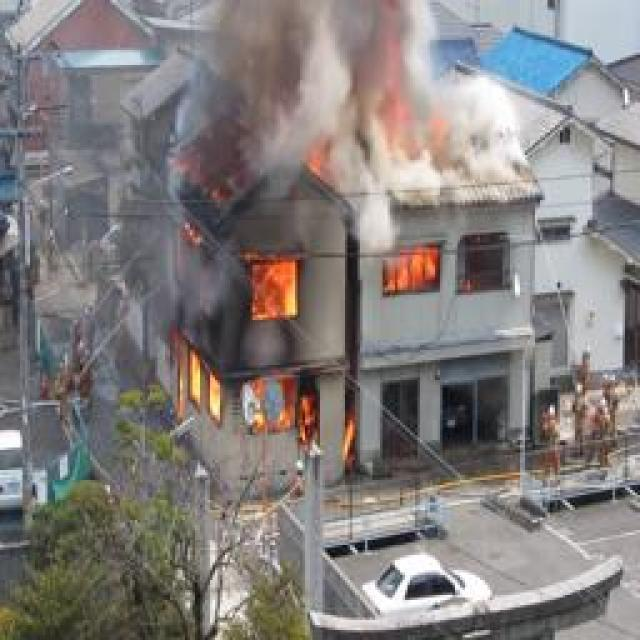Fire: (182, 232, 326, 446), (363, 52, 466, 168), (382, 240, 456, 310)
